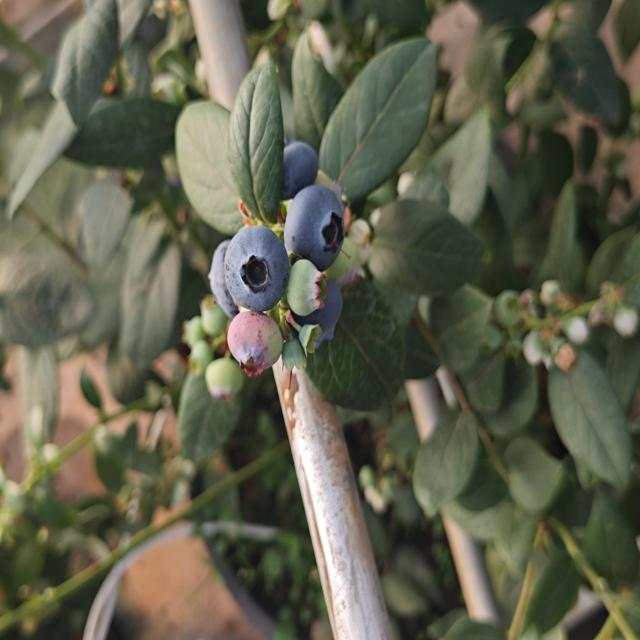ripe: (222, 224, 290, 314), (282, 183, 346, 272), (290, 265, 346, 347), (201, 230, 245, 314), (266, 138, 320, 205)
